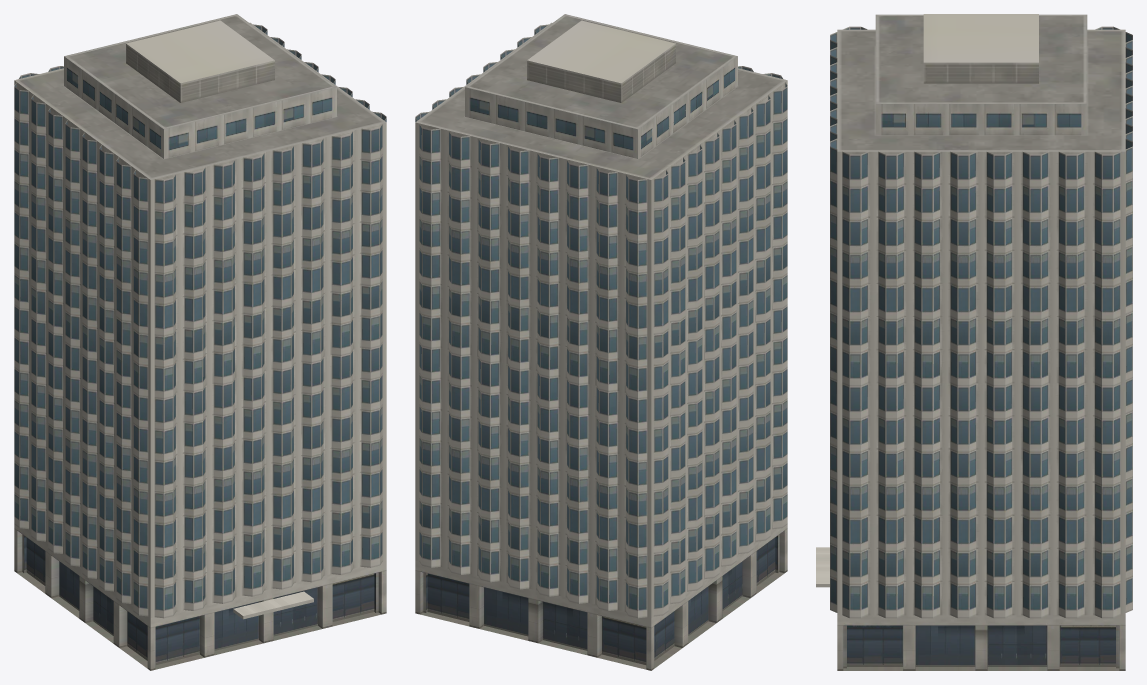
The model's file is sf_glassslab_d.glb.
3 views of the same model, side by side, from view 1: azimuth 30°, elevation 25°; view 2: azimuth 150°, elevation 25°; view 3: azimuth 270°, elevation 25° (orthographic). The views are drawn at different scales.
Parts seen in each view (by area): view 1: sf_glassslab_d; view 2: sf_glassslab_d; view 3: sf_glassslab_d.
Part boxes in pixels (x1=…): sf_glassslab_d: x1=14, y1=14, x2=386, y2=670; sf_glassslab_d: x1=415, y1=14, x2=787, y2=670; sf_glassslab_d: x1=816, y1=14, x2=1132, y2=670.
Size of the model in its own units: 31.5 by 65.6 by 32.95.
Materials: 1 (1 with a texture image).
